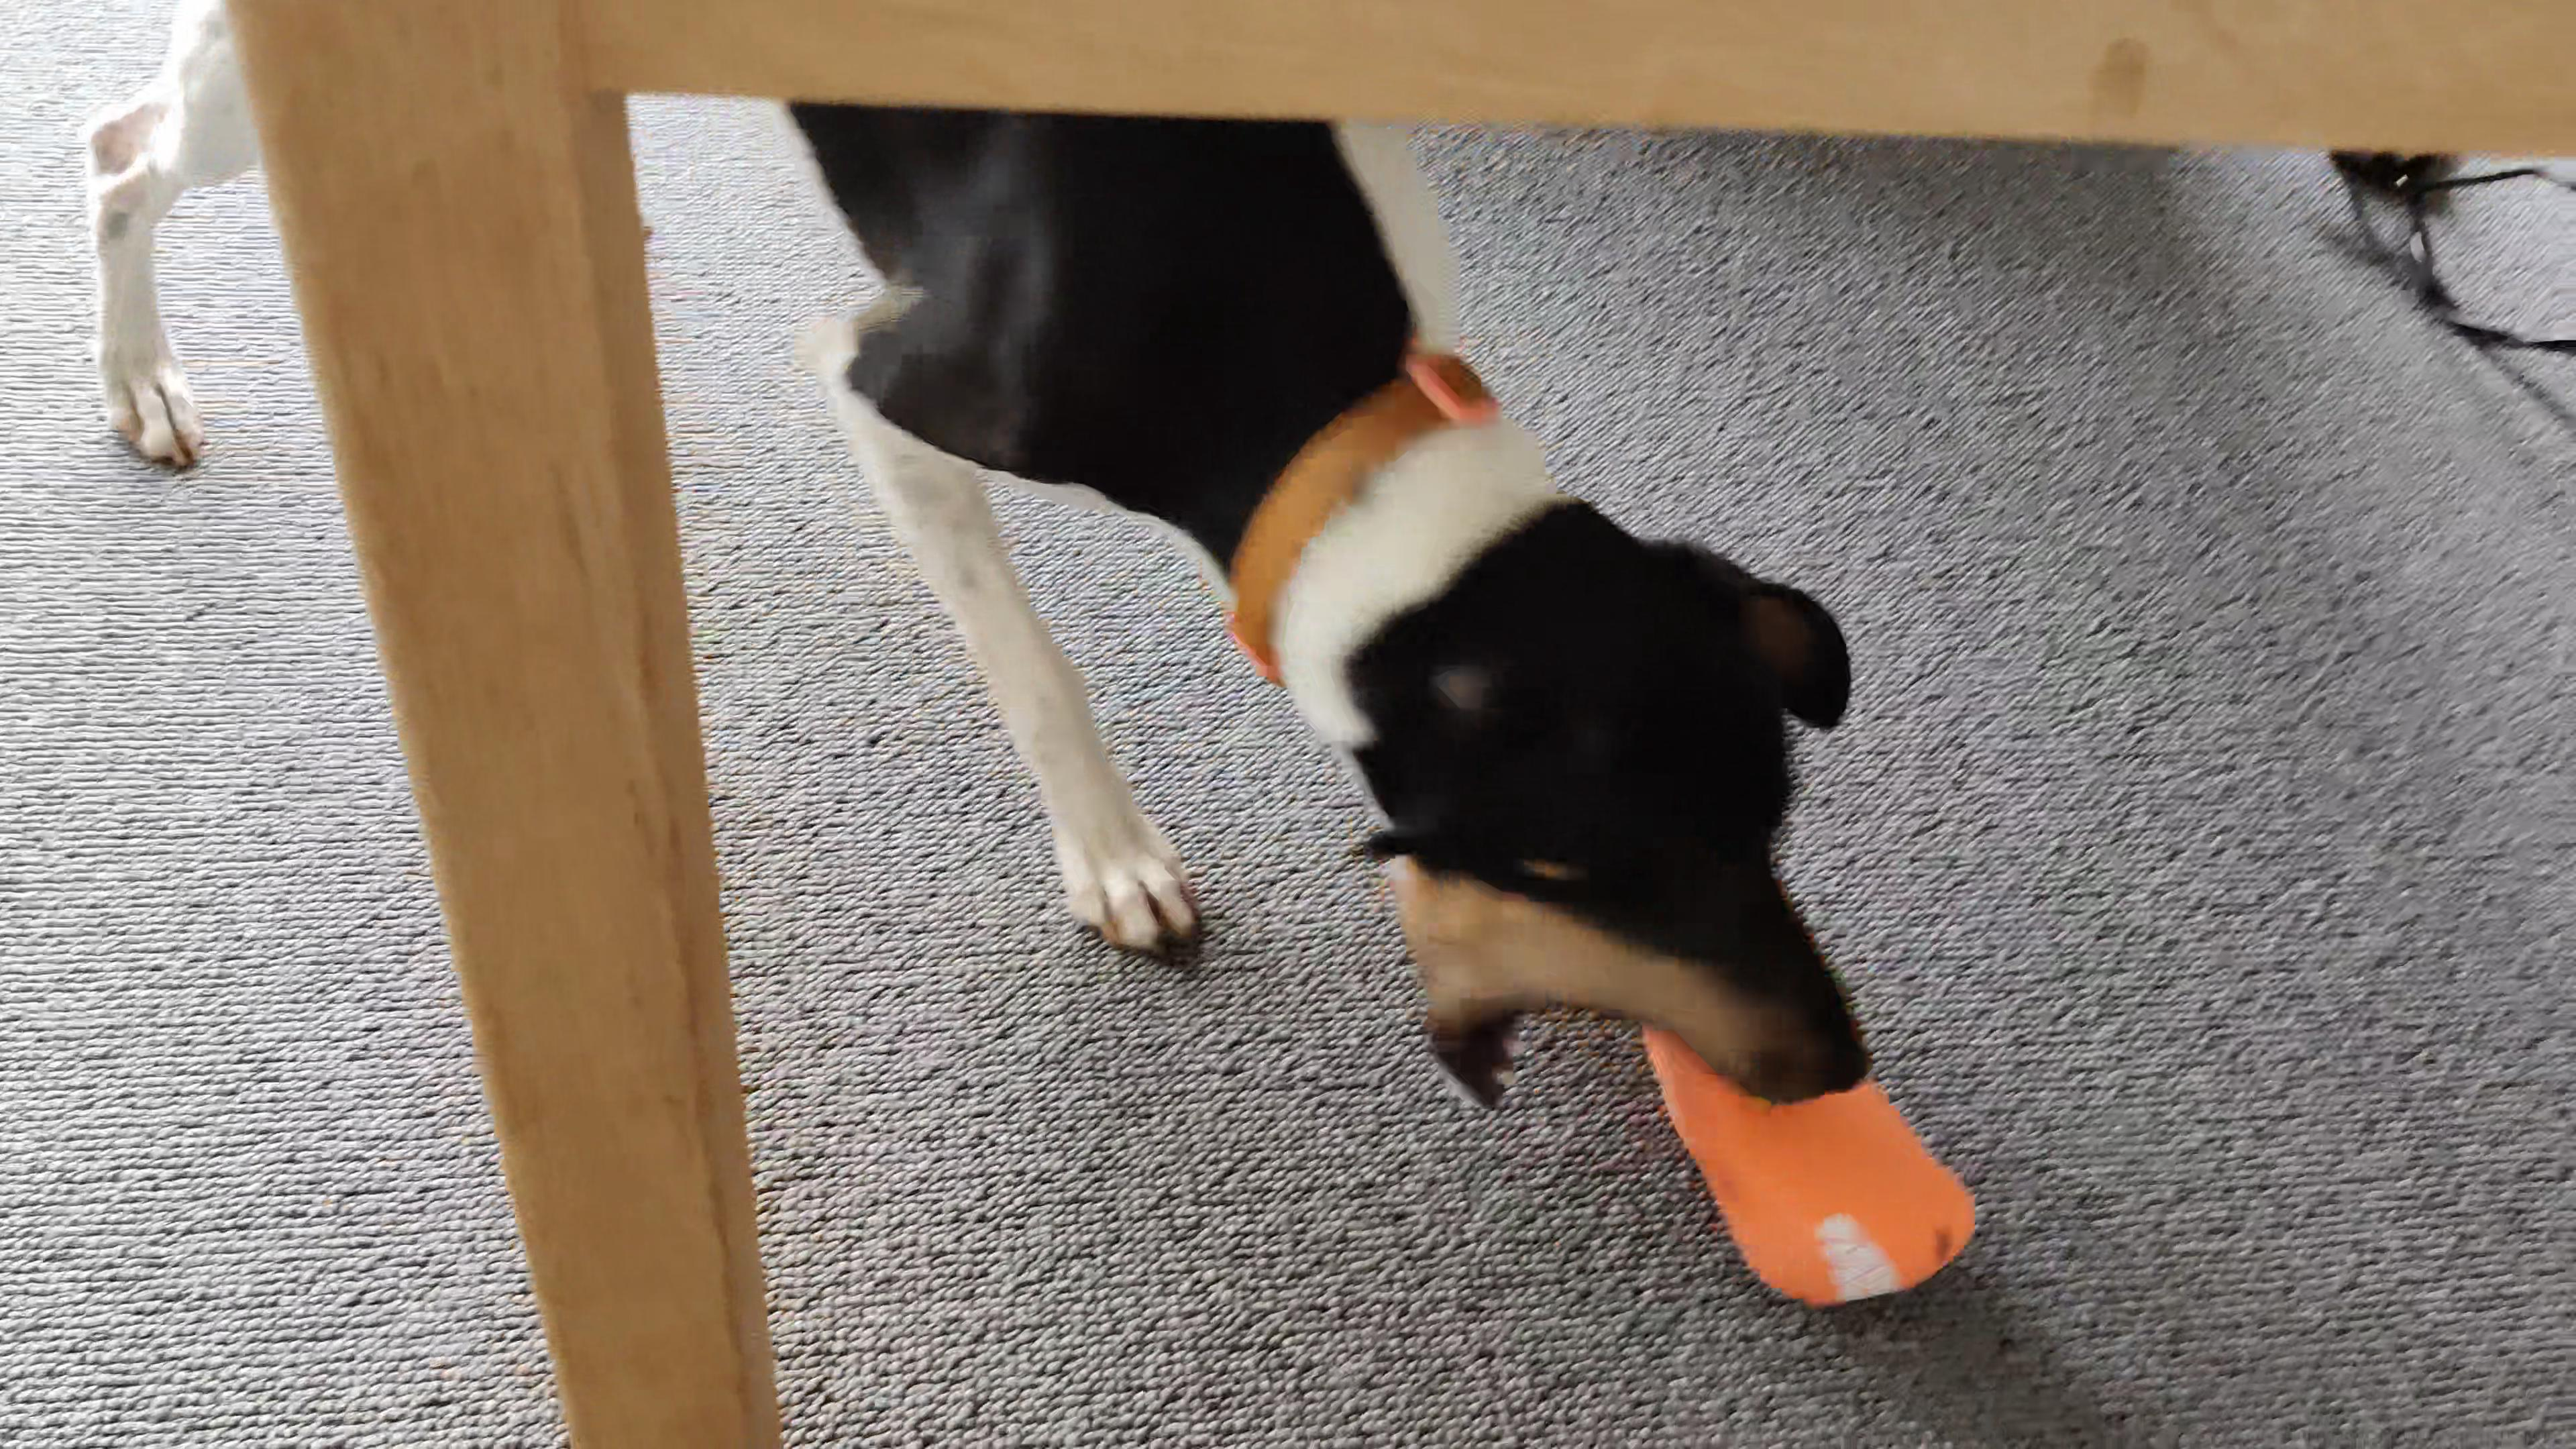Dog: (44, 0, 1890, 1123)
